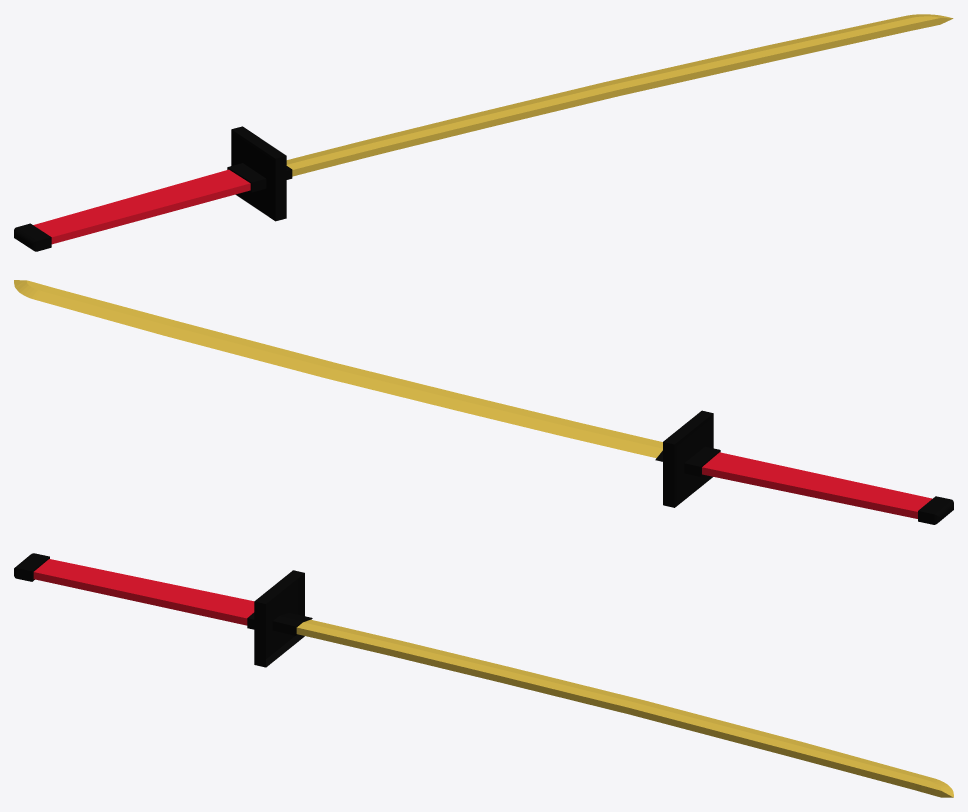
Rendered from Black-Gold-Red-Katana.fbx.
3 views of the same model, one above another, from view 1: azimuth 30°, elevation 25°; view 2: azimuth 150°, elevation 25°; view 3: azimuth 330°, elevation 25° (orthographic).
Visible parts, largest first — view 1: Cube; view 2: Cube; view 3: Cube.
Boxes of the visible parts, box(x1,y1,x2,y2) form: Cube: box(14, 14, 953, 251); Cube: box(14, 280, 953, 524); Cube: box(14, 553, 953, 797).
Size of the model in its own units: 139 by 8.94 by 10.73.
